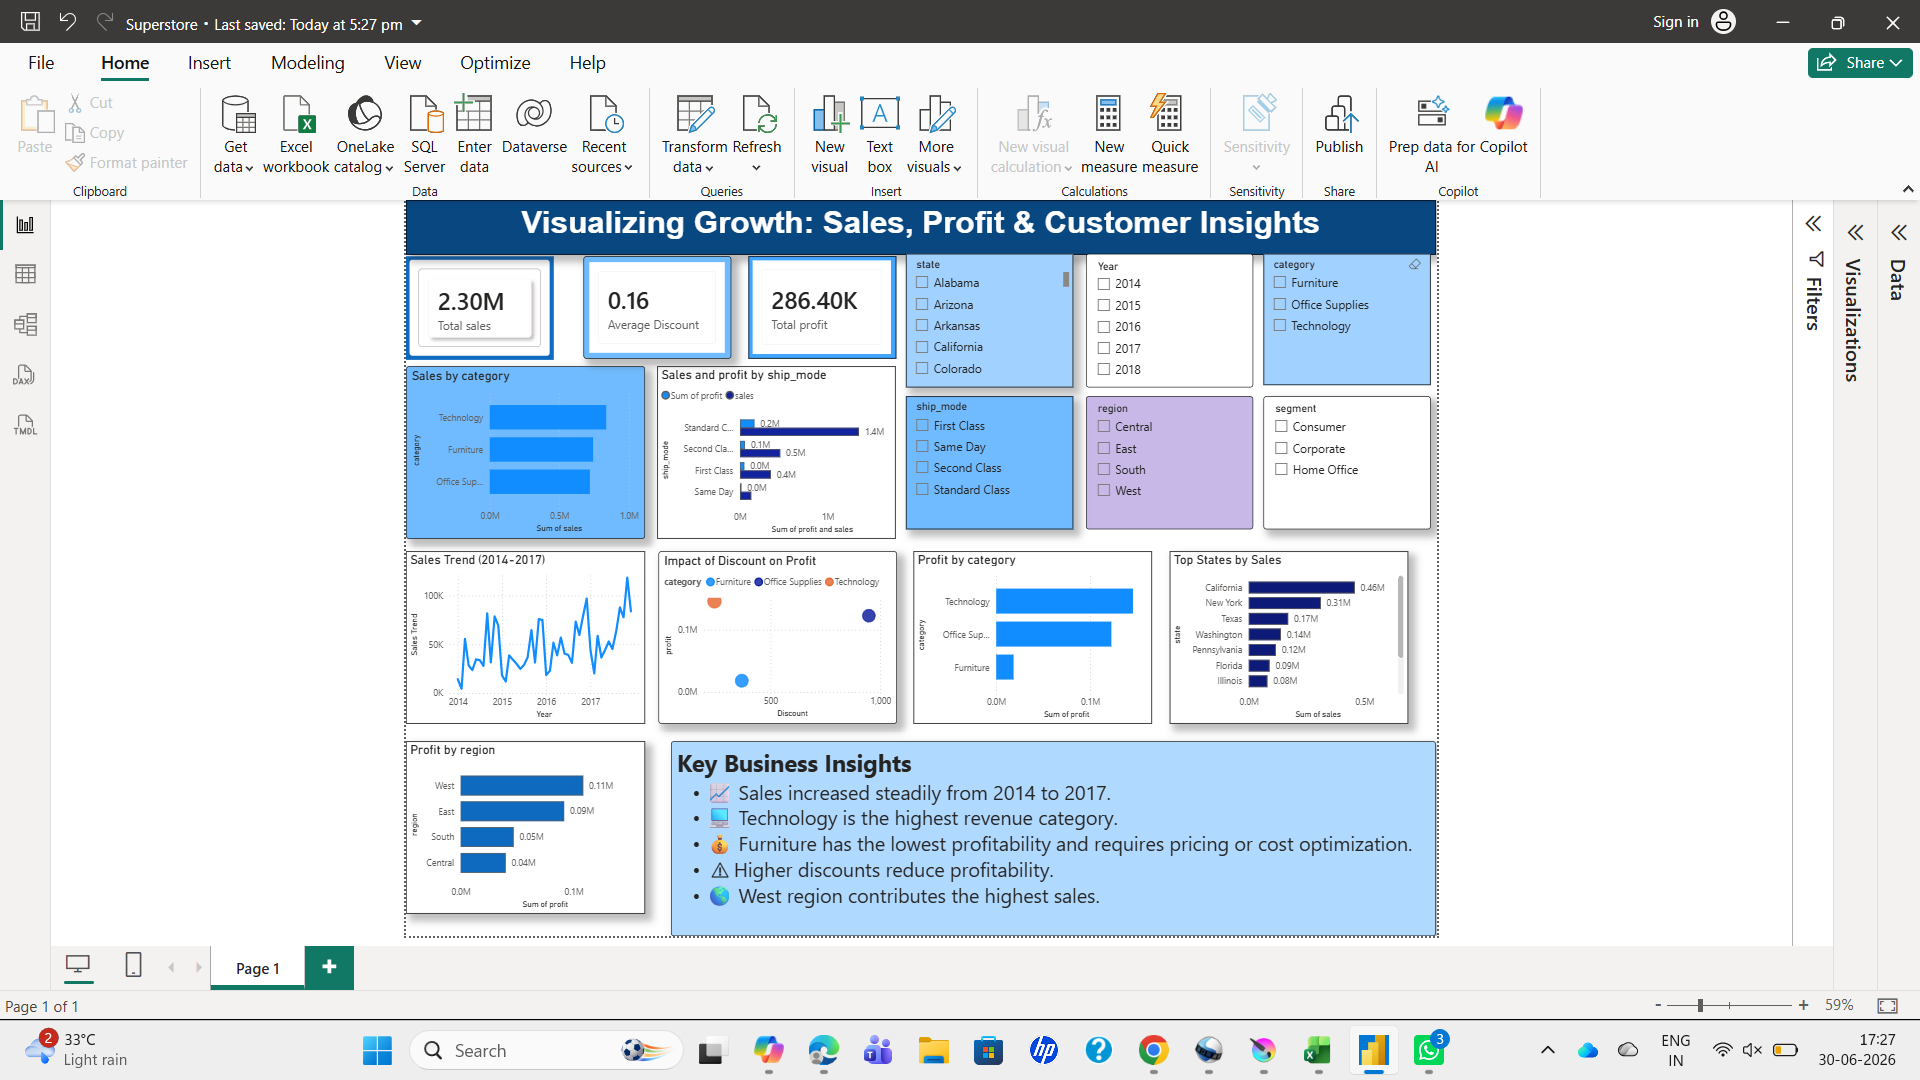

What the dashboard file says about the page in this screenshot:
{"tool":"powerbi","page":{"name":"Page 1","canvas":[1400,1000],"ordinal":0},"visuals":[{"type":"cardVisual","fields":{"Data":["Sum(cleaned_superstore.sales)"]},"box":[0,76.4,200.4,141],"z":0},{"type":"clusteredBarChart","title":"Sales by category","fields":{"Category":["cleaned_superstore.category"],"Y":["Sum(cleaned_superstore.sales)"]},"box":[0,225,325,234.6],"z":1000},{"type":"lineChart","title":"Sales Trend (2014-2017)","fields":{"Y":["Sum(cleaned_superstore.sales)"],"Category":["cleaned_superstore.order_date.Variation.Date Hierarchy.Year","cleaned_superstore.order_date.Variation.Date Hierarchy.Month"]},"box":[0,477.5,325,234],"z":2000},{"type":"scatterChart","title":"Impact of Discount on Profit","fields":{"X":["Sum(cleaned_superstore.discount)"],"Y":["Sum(cleaned_superstore.profit)"],"Series":["cleaned_superstore.category"],"Size":["Sum(cleaned_superstore.sales)"]},"box":[343.1,477.2,324.4,234.4],"z":3000},{"type":"clusteredBarChart","title":"Sales and profit  by ship_mode","fields":{"Category":["cleaned_superstore.ship_mode"],"Y":["Sum(cleaned_superstore.profit)","Sum(cleaned_superstore.sales)"]},"box":[341.4,225.9,324.4,234.4],"z":4000},{"type":"textbox","box":[0,0,1399.5,74.7],"z":4002},{"type":"slicer","fields":{"Values":["cleaned_superstore.region"]},"box":[923.9,266.6,227.6,181],"z":4003},{"type":"slicer","fields":{"Values":["cleaned_superstore.ship_date.Variation.Date Hierarchy.Year"]},"box":[923.9,73,227.6,181.7],"z":4006},{"type":"slicer","fields":{"Values":["cleaned_superstore.category"]},"box":[1165.1,73,227.6,178.3],"z":4007},{"type":"cardVisual","fields":{"Data":["Avg(cleaned_superstore.discount)"]},"box":[241.2,76.4,200.4,139.3],"z":4008},{"type":"cardVisual","fields":{"Data":["Sum(cleaned_superstore.profit)"]},"box":[465.4,76.4,200.4,139.3],"z":4009},{"type":"slicer","fields":{"Values":["cleaned_superstore.state"]},"box":[679.4,73,227.6,181.7],"z":4010},{"type":"clusteredBarChart","title":" Profit by region","fields":{"Category":["cleaned_superstore.region"],"Y":["Sum(cleaned_superstore.profit)"]},"box":[0,735.4,325,234],"z":4011},{"type":"barChart","title":" Profit by category","fields":{"Y":["Sum(cleaned_superstore.profit)"],"Category":["cleaned_superstore.category"]},"box":[689.5,477.2,324.4,234.4],"z":4012},{"type":"slicer","fields":{"Values":["cleaned_superstore.ship_mode"]},"box":[679.4,266.6,227,181],"z":4013},{"type":"slicer","fields":{"Values":["cleaned_superstore.segment"]},"box":[1165.1,266.6,227,181],"z":4014},{"type":"clusteredBarChart","title":"Top States by Sales","fields":{"Category":["cleaned_superstore.state"],"Y":["Sum(cleaned_superstore.sales)"]},"box":[1037.7,477.2,324.4,234.4],"z":4015},{"type":"textbox","box":[360.1,735.4,1039.4,264.9],"z":4016}]}

Visuals, with their boxes on the page's 1400x1000 design canvas (x1, y1, x2, y2). These are canvas units, not pixel positions in the 1920x1080 screenshot, which may show the page scaled, cropped or inside an application window:
cardVisual - Sum(cleaned_superstore.sales): [0,76,200,217]
"Sales by category" clusteredBarChart: [0,225,325,460]
"Sales Trend (2014-2017)" lineChart: [0,478,325,712]
"Impact of Discount on Profit" scatterChart: [343,477,668,712]
"Sales and profit  by ship_mode" clusteredBarChart: [341,226,666,460]
textbox: [0,0,1400,75]
slicer - cleaned_superstore.region: [924,267,1152,448]
slicer - cleaned_superstore.ship_date.Variation.Date Hierarchy.Year: [924,73,1152,255]
slicer - cleaned_superstore.category: [1165,73,1393,251]
cardVisual - Avg(cleaned_superstore.discount): [241,76,442,216]
cardVisual - Sum(cleaned_superstore.profit): [465,76,666,216]
slicer - cleaned_superstore.state: [679,73,907,255]
" Profit by region" clusteredBarChart: [0,735,325,969]
" Profit by category" barChart: [690,477,1014,712]
slicer - cleaned_superstore.ship_mode: [679,267,906,448]
slicer - cleaned_superstore.segment: [1165,267,1392,448]
"Top States by Sales" clusteredBarChart: [1038,477,1362,712]
textbox: [360,735,1400,1000]
